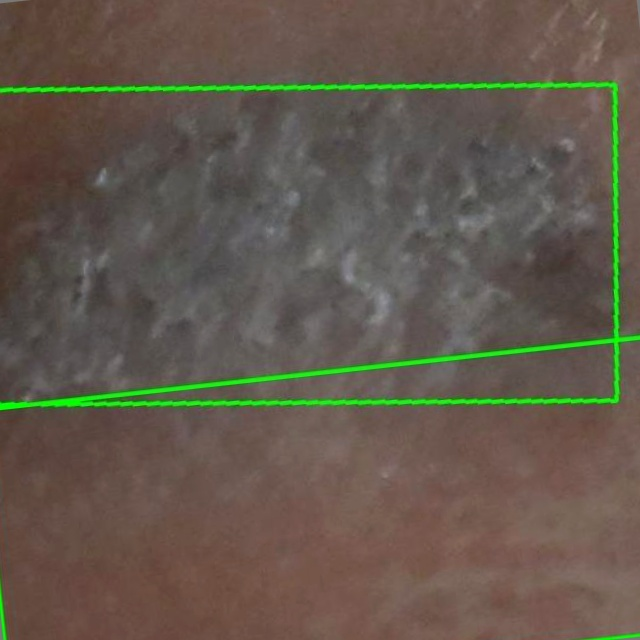Eczema: (0, 84, 616, 404), (0, 336, 639, 639)
